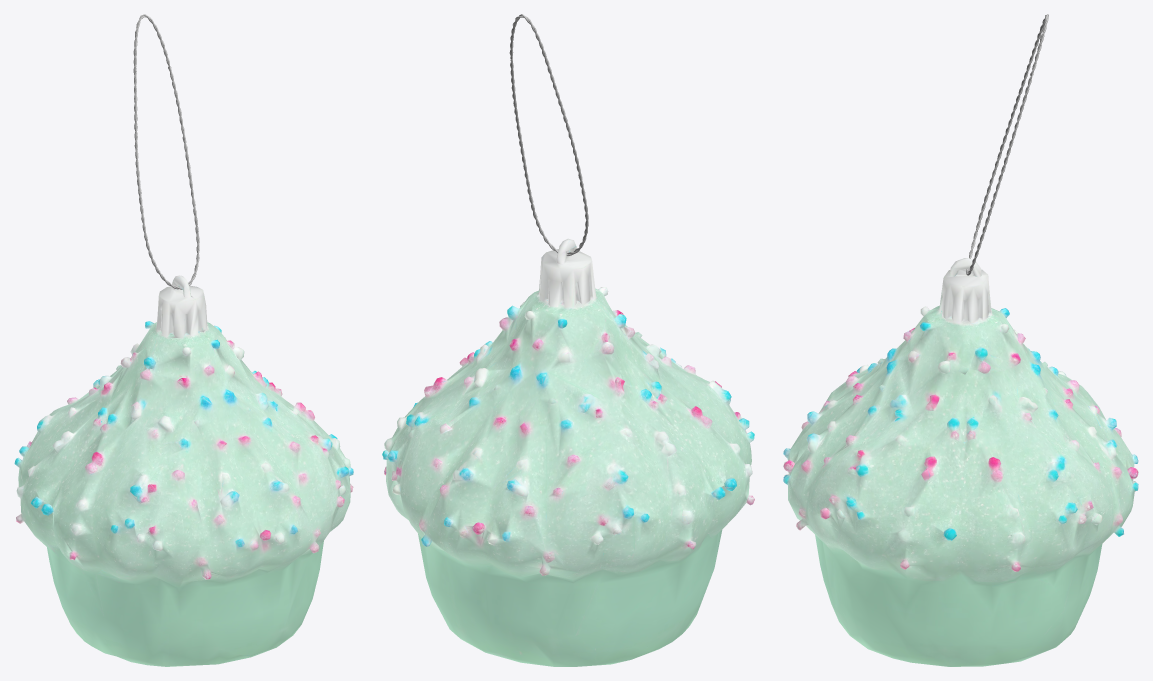
Rendered from cupcake8.glb.
3 views of the same model, side by side, from view 1: azimuth 30°, elevation 25°; view 2: azimuth 150°, elevation 25°; view 3: azimuth 270°, elevation 25° (orthographic). The views are drawn at different scales.
Parts seen in each view (by area): view 1: Mesh_0, GN Instance; view 2: Mesh_0, GN Instance; view 3: Mesh_0, GN Instance.
Part boxes in pixels (x1,y1,x2,y2): Mesh_0: [14, 275, 353, 666]; GN Instance: [133, 14, 199, 289]; Mesh_0: [382, 238, 754, 666]; GN Instance: [509, 14, 588, 255]; Mesh_0: [783, 258, 1138, 666]; GN Instance: [966, 14, 1048, 275].
Size of the model in its own units: 0.07 by 0.1319 by 0.07.
Materials: 2 (1 with a texture image).
